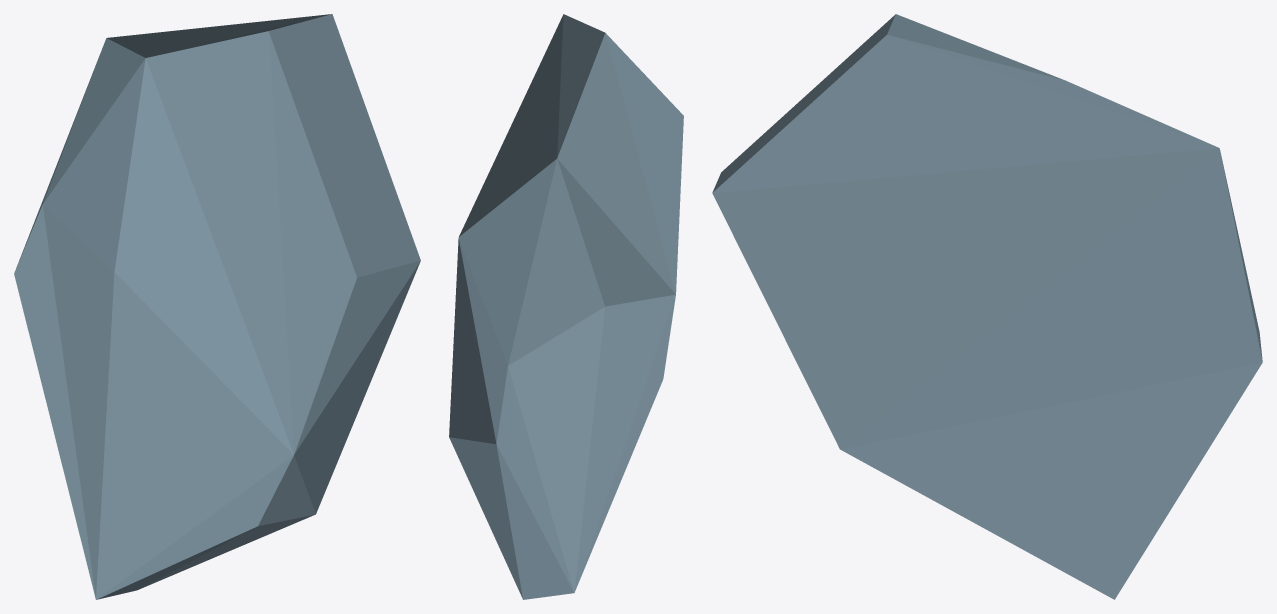
The model's file is ROCA VERTICAL.fbx.
The picture shows the model from 3 angles, left to right: view 1: azimuth 30°, elevation 25°; view 2: azimuth 150°, elevation 25°; view 3: azimuth 270°, elevation 25°; orthographic projection. The views are drawn at different scales.
Visible parts, largest first — view 1: rocks; view 2: rocks; view 3: rocks.
Part boxes in pixels (x1=…): rocks: x1=14, y1=14, x2=420, y2=599; rocks: x1=449, y1=14, x2=683, y2=599; rocks: x1=712, y1=14, x2=1262, y2=599.
Bounding box in the file's own units: 10.35 × 47.26 × 39.47.
